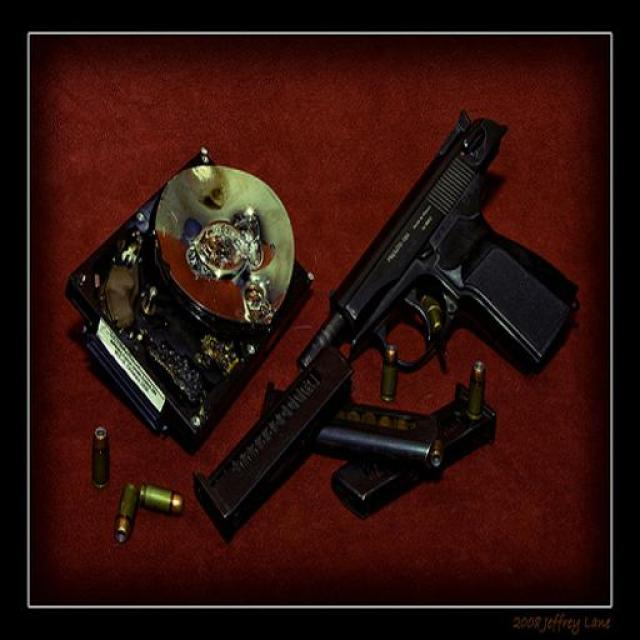pistol: (294, 109, 580, 389)
